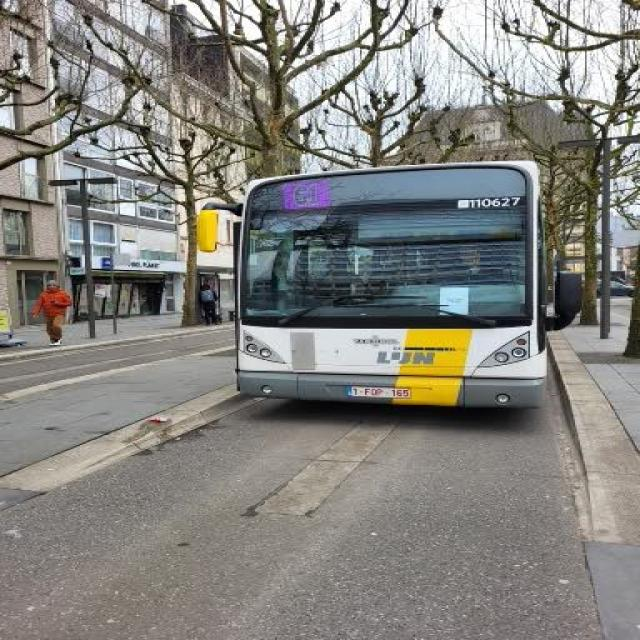bus-number: (285, 183, 327, 207)
